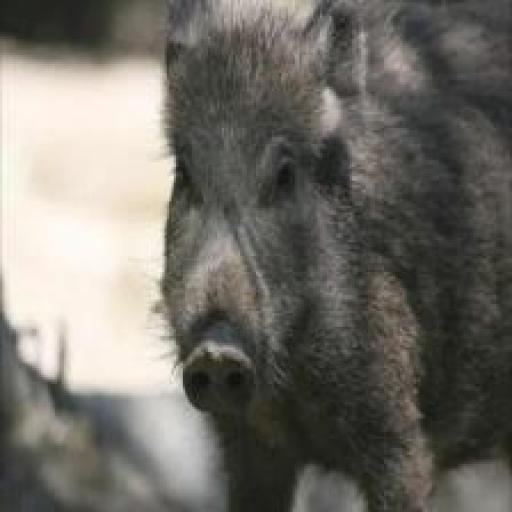Pig: (126, 0, 511, 512)
